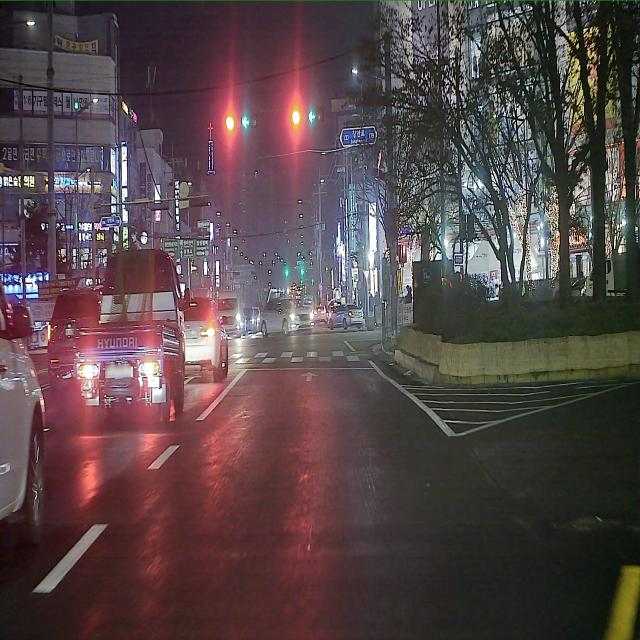Red Light: (291, 110, 300, 125), (226, 115, 234, 131)
